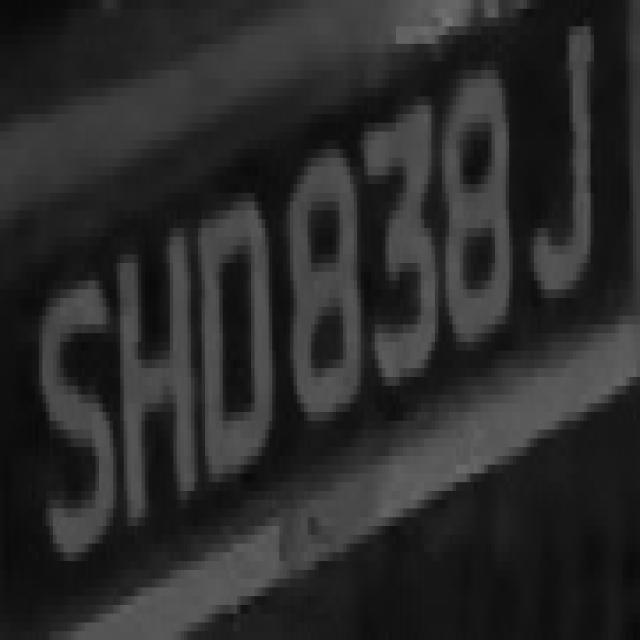3: (364, 79, 446, 429)
8: (276, 122, 364, 464), (435, 44, 513, 377)
D: (191, 175, 279, 491)
H: (113, 202, 202, 561)
J: (516, 9, 601, 342)
S: (42, 237, 120, 596)
